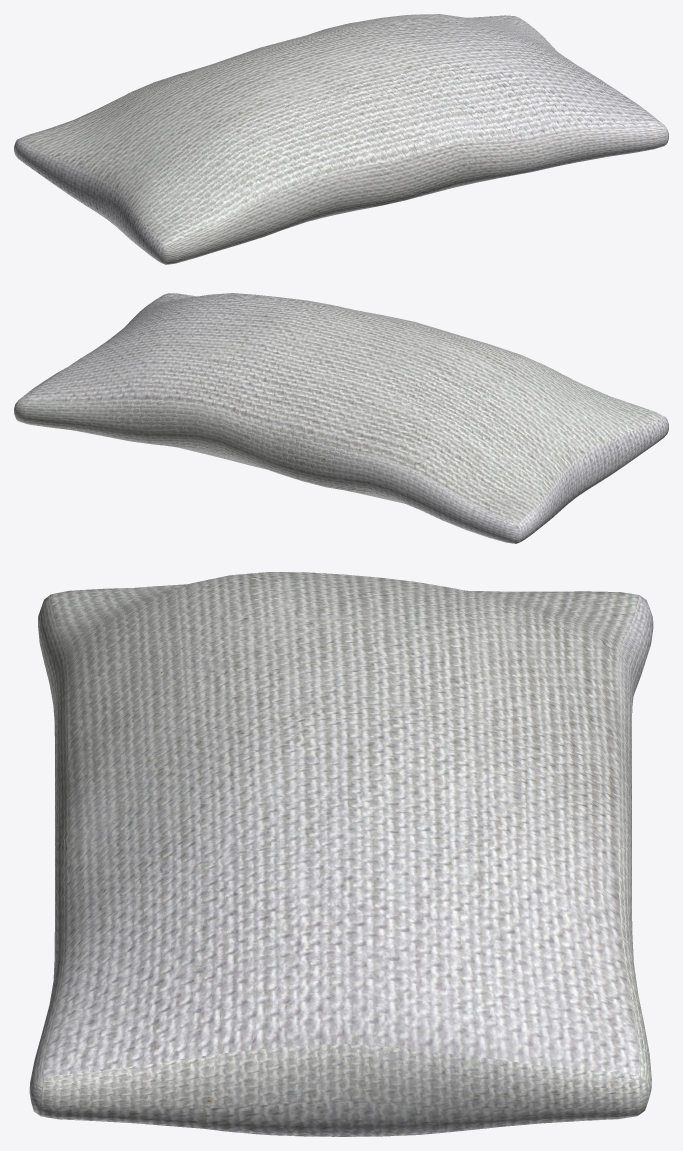
The model's file is Coq_funiture_Cushion01.fbx.
3 renders of one model, top to bottom at view 1: azimuth 30°, elevation 25°; view 2: azimuth 150°, elevation 25°; view 3: azimuth 270°, elevation 25°, orthographic. The views are drawn at different scales.
Visible parts, largest first — view 1: Cushion; view 2: Cushion; view 3: Cushion.
Part boxes in pixels (left/top/right/bottom): Cushion: left=14, top=14, right=668, bottom=264; Cushion: left=14, top=293, right=668, bottom=543; Cushion: left=29, top=572, right=653, bottom=1136.
Size of the model in its own units: 199 by 54.14 by 106.
